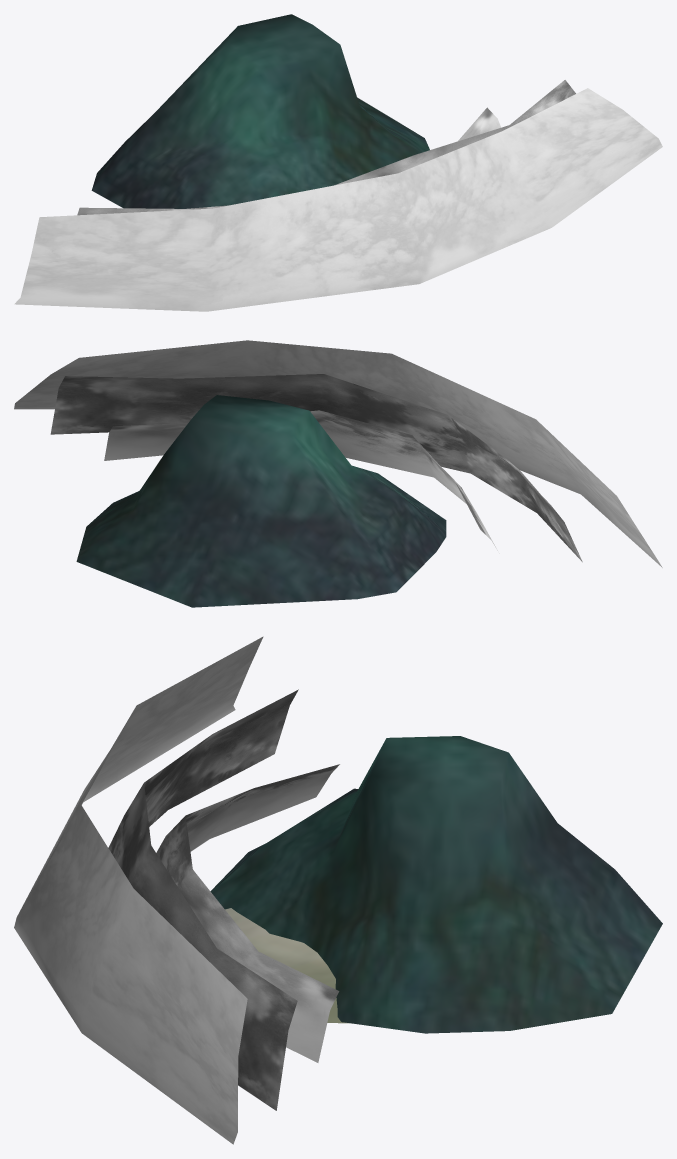
File: pir_m_are_isl_mysterious_05_dock_lod.fbx
3 views of the same model, one above another, from view 1: azimuth 30°, elevation 25°; view 2: azimuth 150°, elevation 25°; view 3: azimuth 270°, elevation 25° (orthographic). The views are drawn at different scales.
Parts seen in each view (by area): view 1: base_fog, hill, base_fog2, base_fog3; view 2: hill, base_fog, base_fog2, base_fog3; view 3: hill, base_fog, base_fog2, base_fog3, ground2.
Boxes of the visible parts, x1,y1,x2,y2 form: base_fog: [14, 88, 662, 311]; hill: [91, 14, 429, 208]; base_fog2: [77, 80, 575, 215]; base_fog3: [458, 107, 500, 141]; hill: [76, 395, 446, 607]; base_fog: [14, 340, 662, 567]; base_fog2: [50, 374, 582, 562]; base_fog3: [104, 410, 499, 553]; hill: [210, 736, 662, 1033]; base_fog: [14, 636, 263, 1144]; base_fog2: [108, 689, 298, 1110]; base_fog3: [156, 764, 339, 1062]; ground2: [225, 908, 351, 1023].
Bounding box in the file's own units: 330266 × 65101 × 208324.
Materials: 3 (3 with a texture image).
